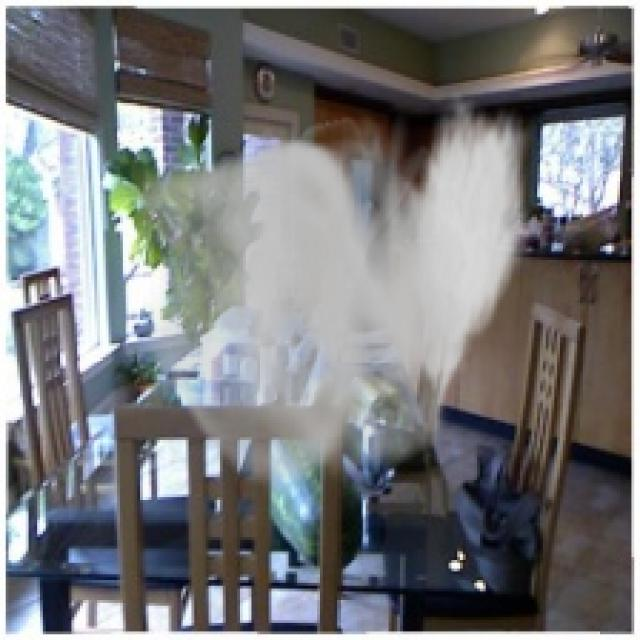smoke: (135, 92, 534, 497)
